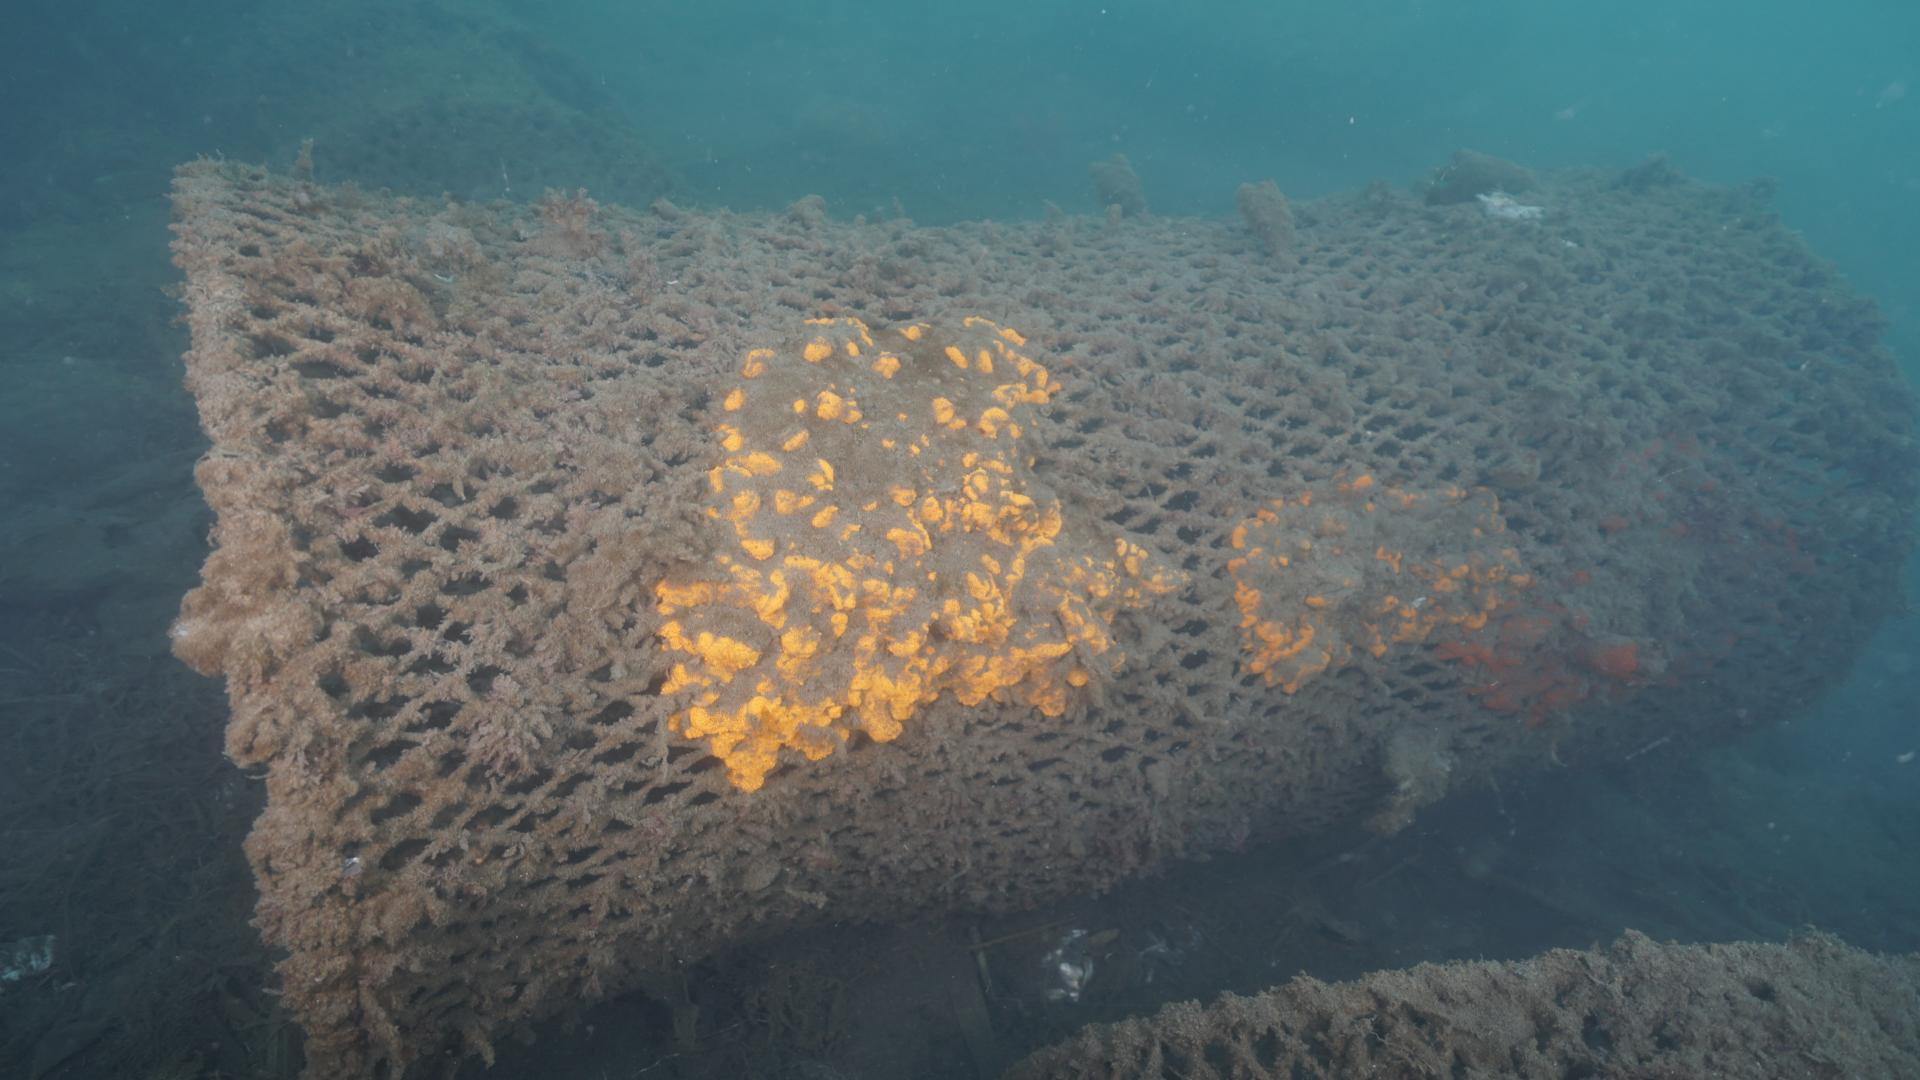spring fish trap: (167, 158, 1920, 1080)
